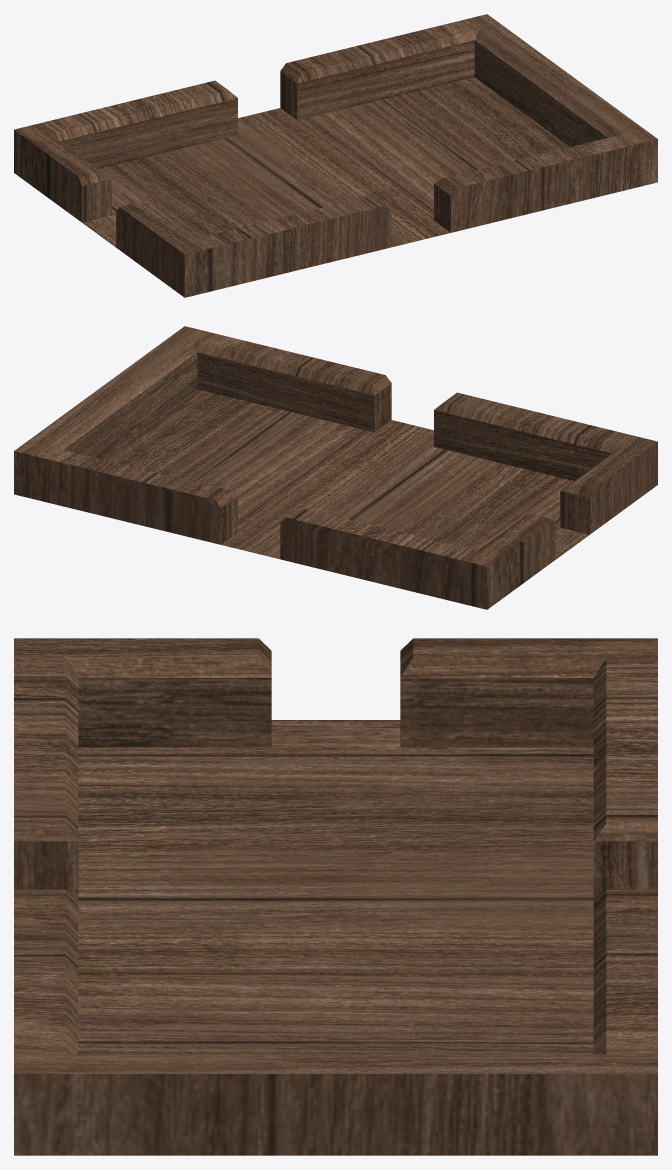
File: room8.fbx
3 renders of one model, top to bottom at view 1: azimuth 30°, elevation 25°; view 2: azimuth 150°, elevation 25°; view 3: azimuth 270°, elevation 25°, orthographic. The views are drawn at different scales.
Parts seen in each view (by area): view 1: Room08Mesh; view 2: Room08Mesh; view 3: Room08Mesh.
Part boxes in pixels (bbox=[...]): Room08Mesh: bbox=[14, 14, 657, 297]; Room08Mesh: bbox=[14, 326, 657, 609]; Room08Mesh: bbox=[14, 638, 657, 1155].
Size of what is drawn, in the model's own units: 80 by 7 by 50.
